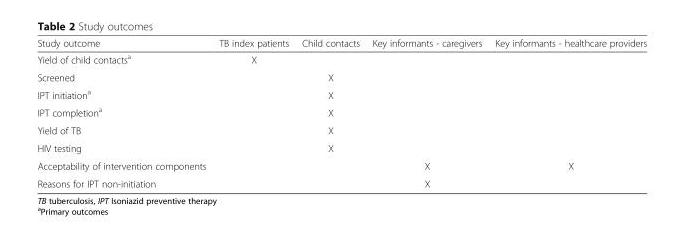table: (36, 37, 646, 188)
table column: (36, 37, 211, 188), (487, 37, 646, 188), (365, 37, 487, 188), (211, 37, 294, 188), (294, 37, 365, 188)
table column header: (36, 37, 646, 50)
table row: (36, 102, 646, 121), (36, 50, 646, 68), (36, 121, 646, 139), (36, 156, 646, 174), (36, 68, 646, 85), (36, 85, 646, 102), (36, 139, 646, 156), (36, 174, 646, 188), (36, 37, 646, 50)
